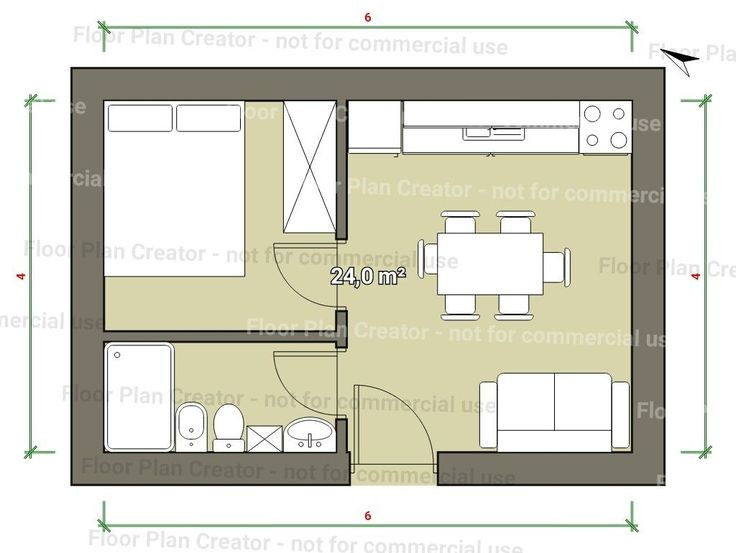door: (352, 385, 430, 470), (269, 350, 343, 417), (272, 243, 344, 304)
room: (350, 157, 640, 451), (106, 100, 342, 326), (106, 335, 340, 457)
wall: (623, 71, 672, 465), (78, 70, 667, 102), (67, 67, 108, 482), (82, 453, 361, 482), (436, 452, 680, 482), (103, 328, 343, 343), (345, 148, 633, 160), (334, 96, 348, 238), (336, 419, 351, 473), (337, 311, 350, 346)
